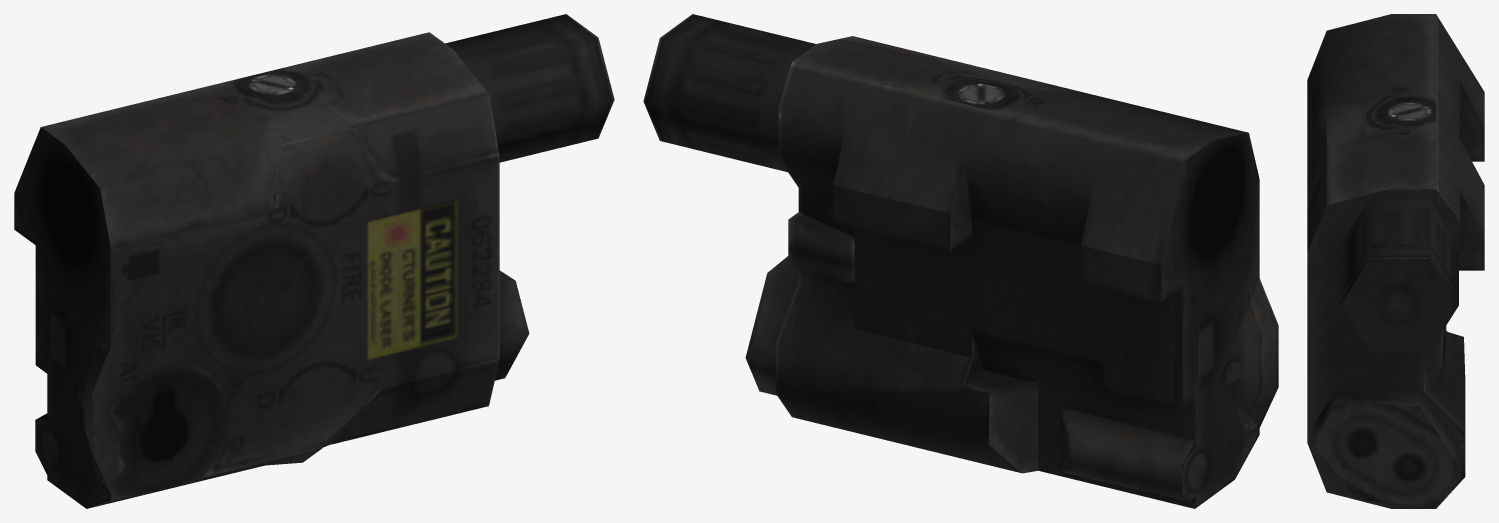
File: t6_attach_dbal_world_LOD2.obj
The picture shows the model from 3 angles, left to right: view 1: azimuth 30°, elevation 25°; view 2: azimuth 150°, elevation 25°; view 3: azimuth 270°, elevation 25°; orthographic projection. The views are drawn at different scales.
Parts seen in each view (by area): view 1: mtl_t6_attach_dbal; view 2: mtl_t6_attach_dbal; view 3: mtl_t6_attach_dbal.
Boxes of the visible parts, <box> form: mtl_t6_attach_dbal: <box>14,14,614,508</box>; mtl_t6_attach_dbal: <box>643,14,1278,508</box>; mtl_t6_attach_dbal: <box>1307,14,1484,508</box>.
Size of the model in its own units: 8.78 by 5.41 by 2.71.
